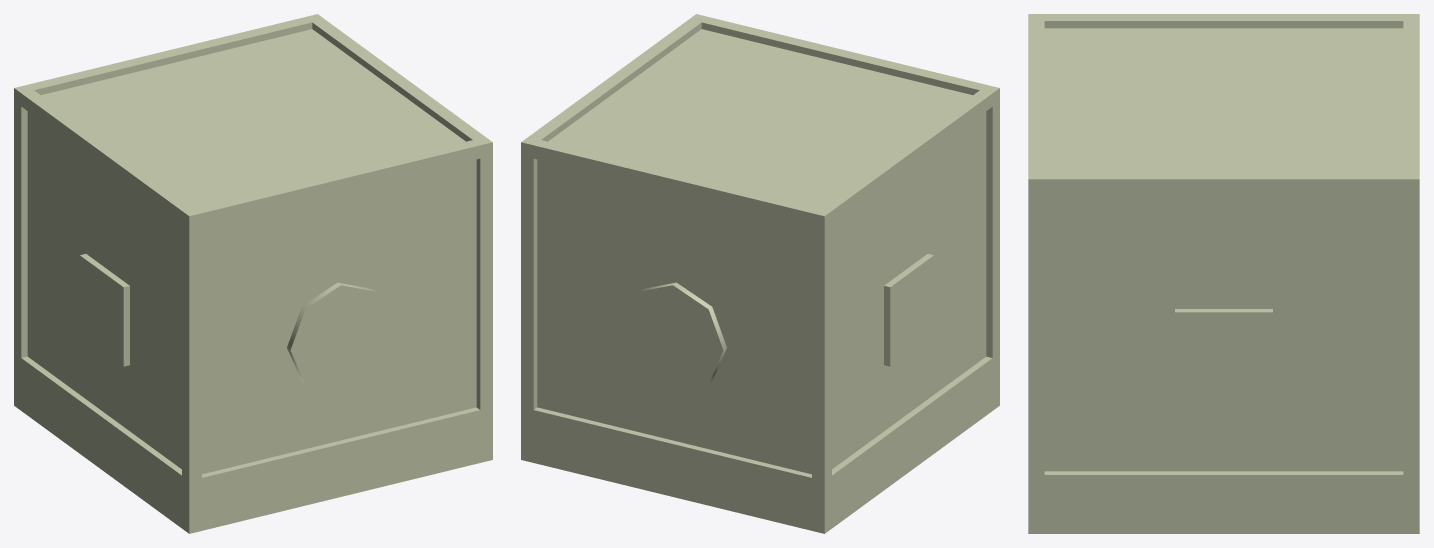
File: silex.obj
3 renders of one model, left to right at view 1: azimuth 30°, elevation 25°; view 2: azimuth 150°, elevation 25°; view 3: azimuth 270°, elevation 25°, orthographic. The views are drawn at different scales.
Visible parts, largest first — view 1: Cube_Cube.001; view 2: Cube_Cube.001; view 3: Cube_Cube.001.
Boxes of the visible parts, box(x1,y1,x2,y2) form: Cube_Cube.001: box(14, 14, 492, 533); Cube_Cube.001: box(521, 14, 999, 533); Cube_Cube.001: box(1028, 14, 1419, 533).
Bounding box in the file's own units: 3 × 3 × 3.
